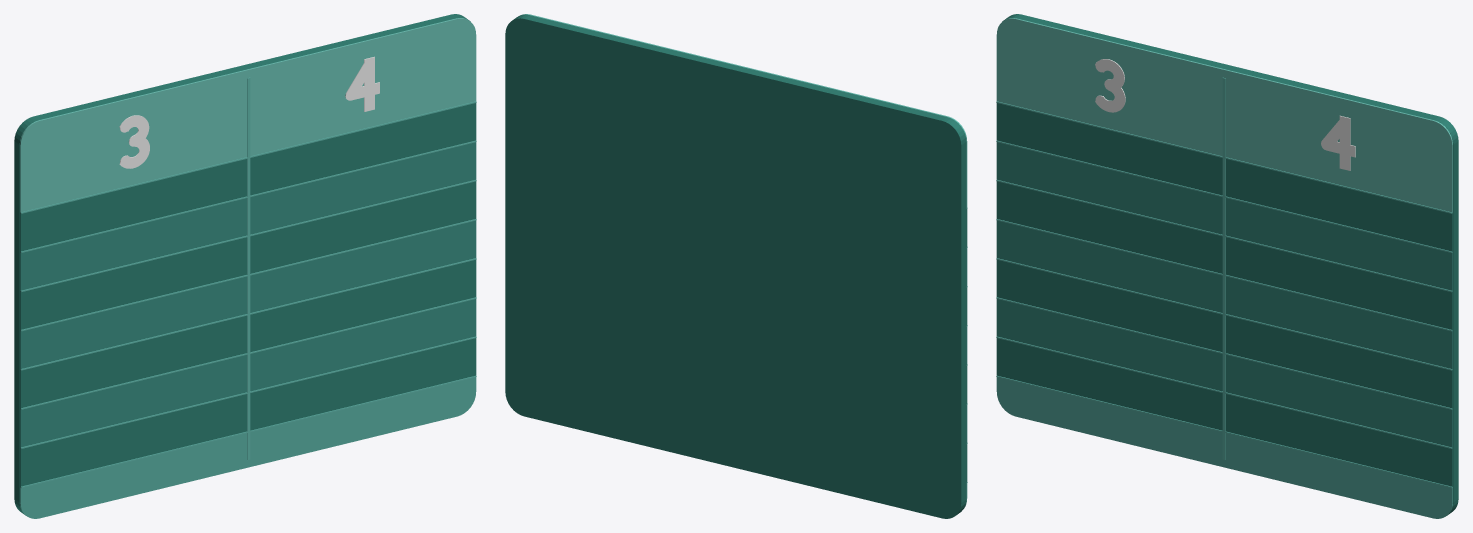
File: Information board_3and4.glb
The picture shows the model from 3 angles, left to right: view 1: azimuth 30°, elevation 25°; view 2: azimuth 150°, elevation 25°; view 3: azimuth 330°, elevation 25°; orthographic projection.
Parts seen in each view (by area): view 1: LibSign34_Header, LibSign34_Band_4, LibSign34_Band_0, LibSign34_Band_3, LibSign34_Band_1, LibSign34_Band_6, LibSign34_Band_2, LibSign34_Band_5, LibSign34_Footer, LibSign34_Plate, LibSign34_Divider, LibSign34_Number_4 (+9 smaller); view 2: LibSign34_Plate, LibSign34_Header; view 3: LibSign34_Header, LibSign34_Band_0, LibSign34_Band_4, LibSign34_Band_3, LibSign34_Band_1, LibSign34_Band_6, LibSign34_Band_2, LibSign34_Band_5, LibSign34_Footer, LibSign34_Plate, LibSign34_Divider, LibSign34_Number_4 (+9 smaller).
Part boxes in pixels (<box>): LibSign34_Header: <box>20,18,476,212</box>; LibSign34_Band_4: <box>20,260,476,408</box>; LibSign34_Band_0: <box>20,103,476,251</box>; LibSign34_Band_3: <box>20,220,476,369</box>; LibSign34_Band_1: <box>20,142,476,290</box>; LibSign34_Band_6: <box>20,338,476,486</box>; LibSign34_Band_2: <box>20,181,476,329</box>; LibSign34_Band_5: <box>20,299,476,447</box>; LibSign34_Footer: <box>20,377,476,518</box>; LibSign34_Plate: <box>14,14,470,515</box>; LibSign34_Divider: <box>247,77,250,460</box>; LibSign34_Number_4: <box>345,56,379,111</box>; LibSign34_Plate: <box>505,14,966,518</box>; LibSign34_Header: <box>520,14,967,207</box>; LibSign34_Header: <box>996,18,1452,212</box>; LibSign34_Band_0: <box>996,103,1452,251</box>; LibSign34_Band_4: <box>996,260,1452,408</box>; LibSign34_Band_3: <box>996,220,1452,369</box>; LibSign34_Band_1: <box>996,142,1452,290</box>; LibSign34_Band_6: <box>996,338,1452,486</box>; LibSign34_Band_2: <box>996,181,1452,329</box>; LibSign34_Band_5: <box>996,299,1452,447</box>; LibSign34_Footer: <box>996,377,1452,518</box>; LibSign34_Plate: <box>1002,14,1458,515</box>; LibSign34_Divider: <box>1222,77,1225,460</box>; LibSign34_Number_4: <box>1321,115,1355,170</box>.
Size of the model in its own units: 0.6 by 0.5 by 0.015.
